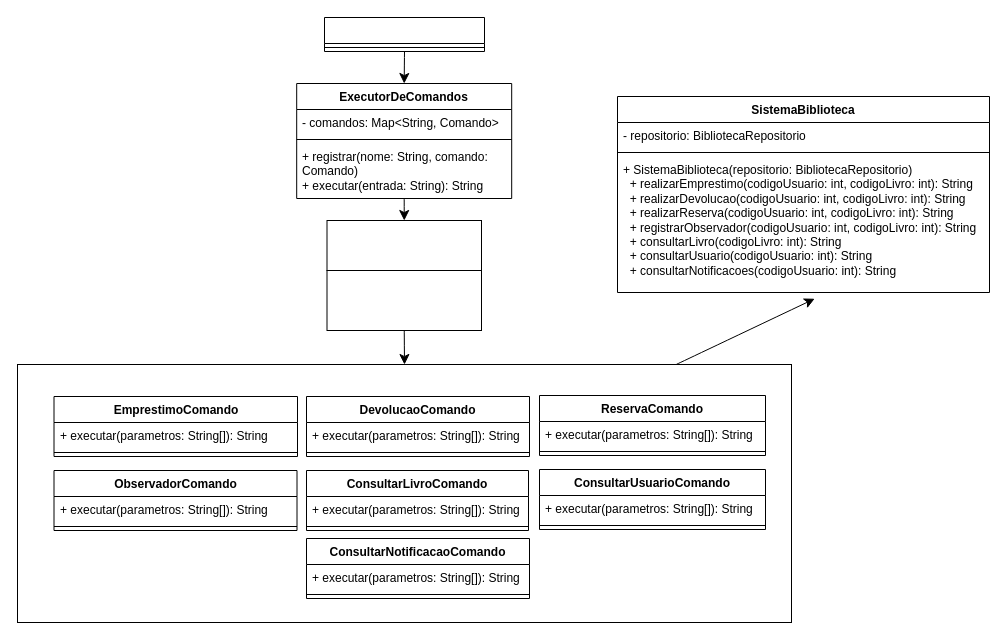
This 1007x640 diagram has some shape labels left out. Each missing label, with the centre of its shape:
"+ executar(String[]): String" belongs at point 404,300.
"Main" belongs at point 404,34.
"«interface» Comando" belongs at point 404,245.
